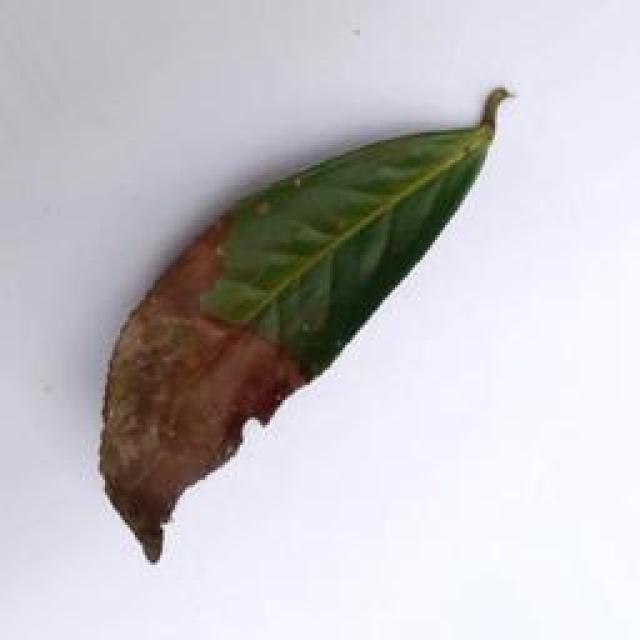Brown Blight: (83, 89, 514, 572)
